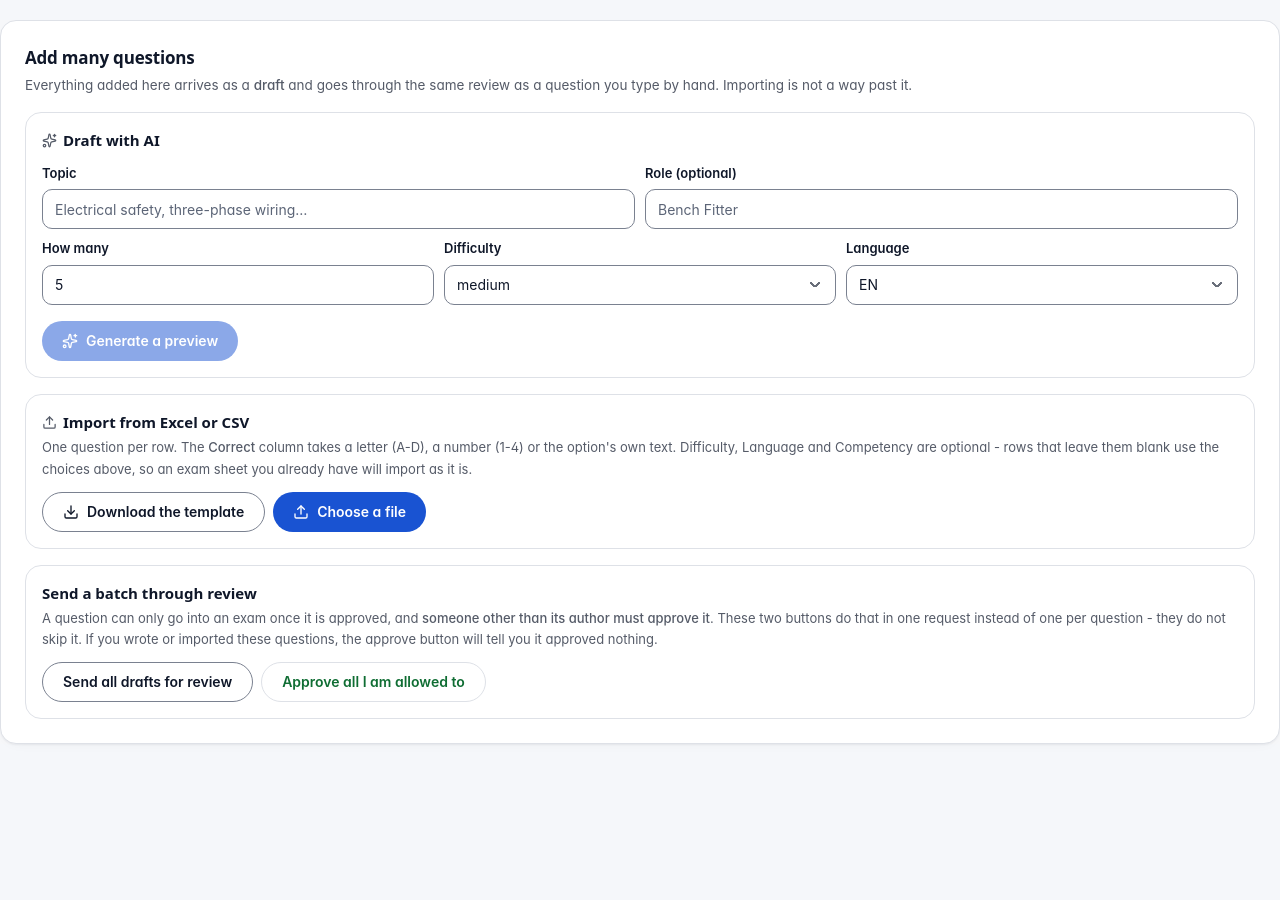
Test: BankFillPanel - AI is a preview, not a save › discarding a preview stores nothing
The width and height of the screenshot is (1280, 900).
In the field labelled "Topic": (338, 209) [42, 189, 635, 229], type "Electrical safety"
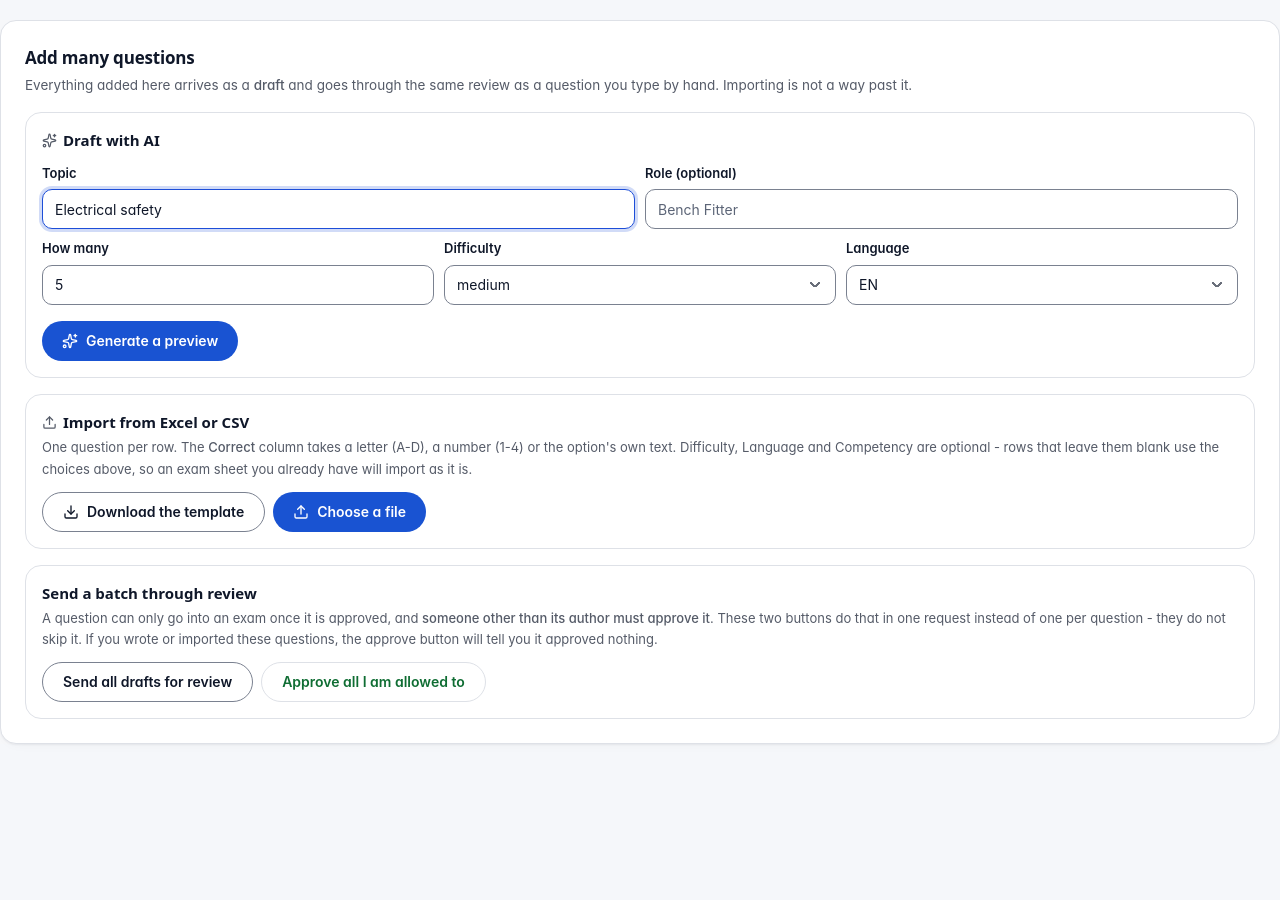
Click the button "Generate a preview": (140, 341) [42, 321, 238, 361]
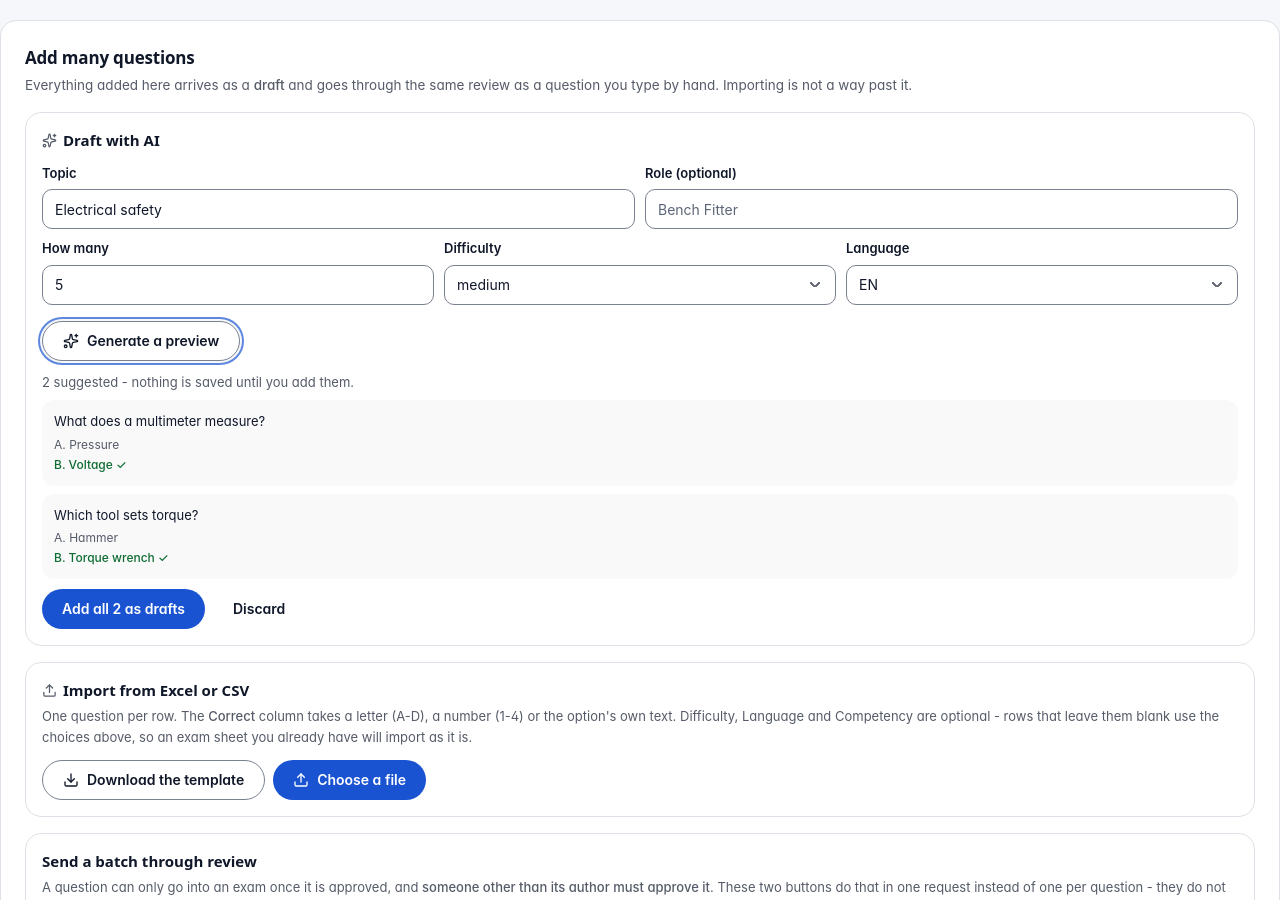
Expected: the element with test id "bank-ai-preview" is shown, [42, 373, 1238, 629]
Click the button "Discard": (259, 609) [213, 589, 305, 629]
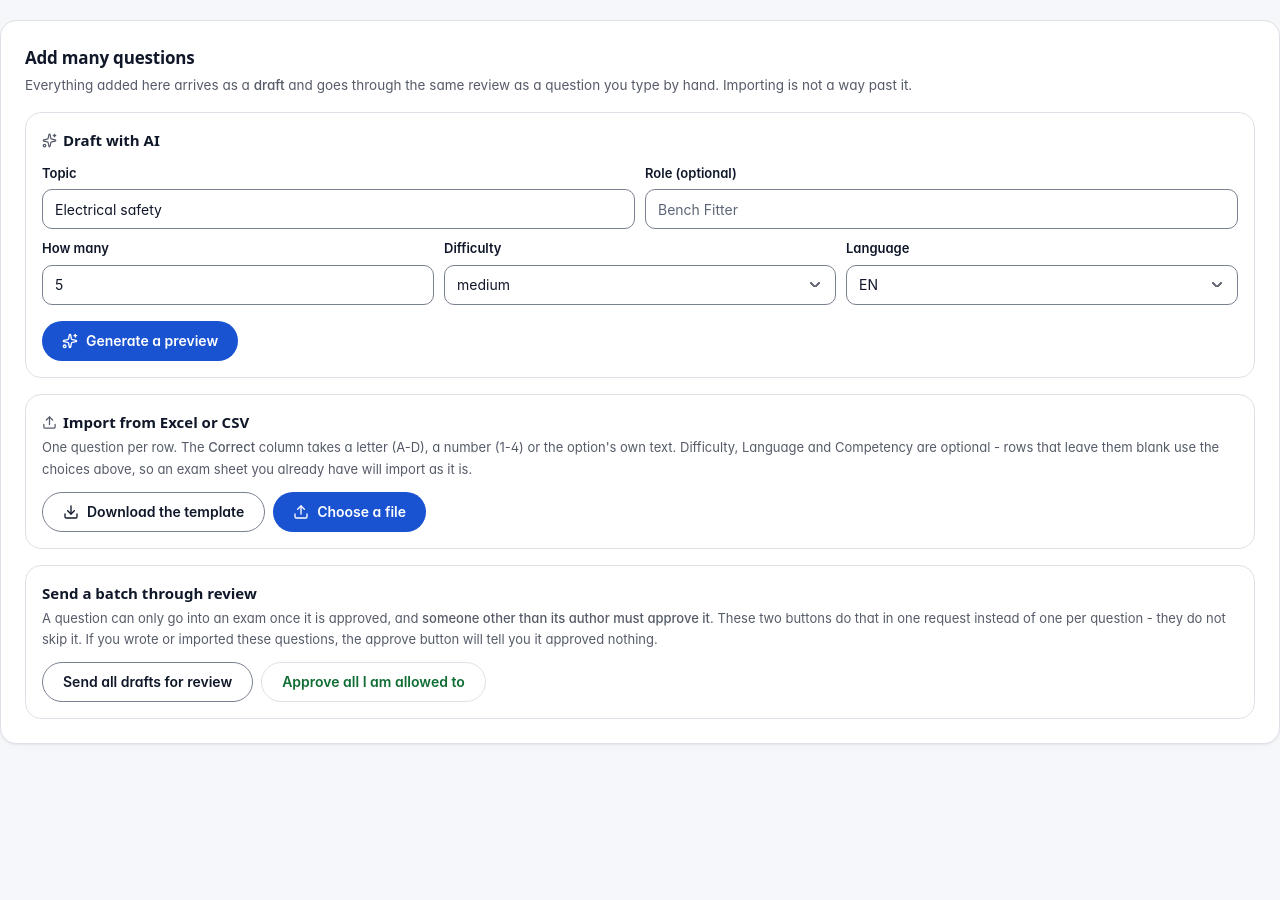
Expected: the element with test id "bank-ai-preview" is gone
